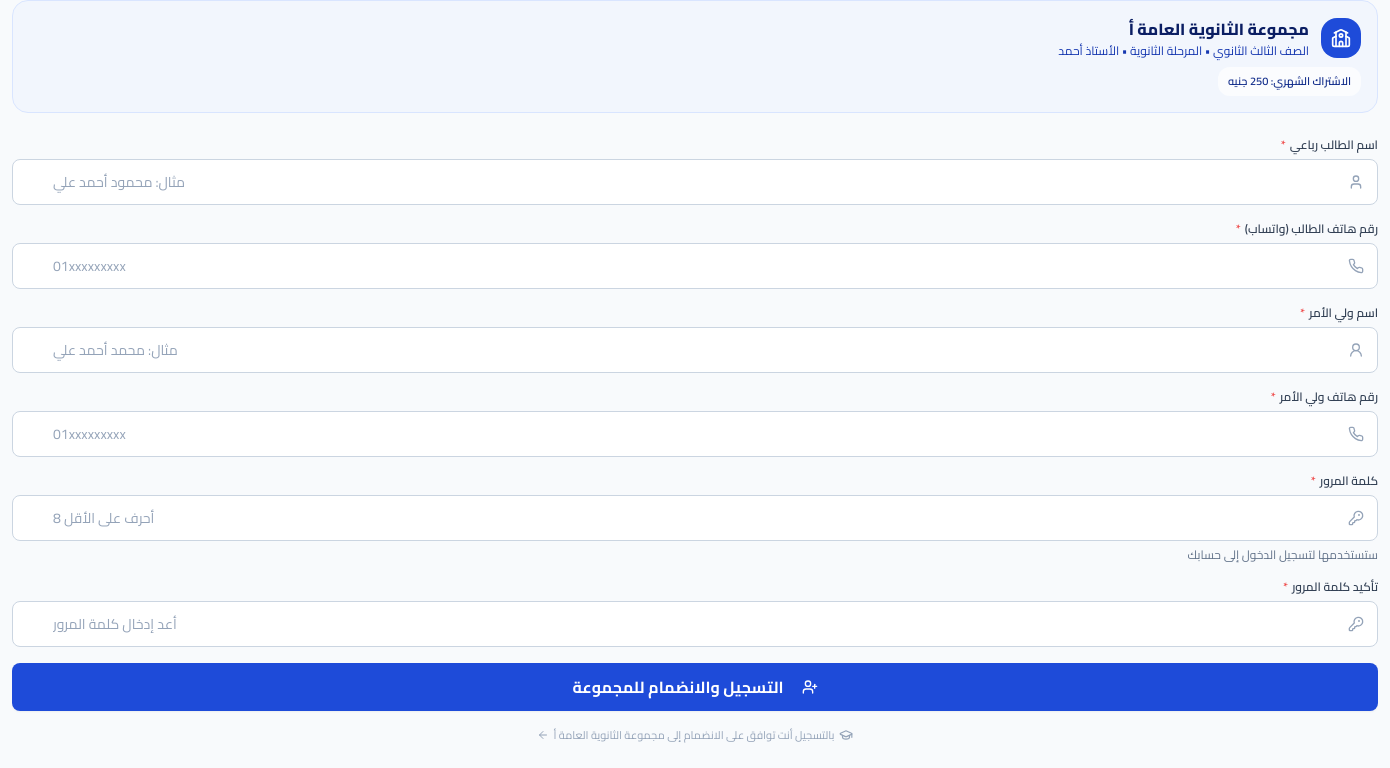
Test: GroupRegistrationForm › shows validation errors for all required student and parent fields when submitted empty
Click the button "التسجيل والانضمام للمجموعة" at {"x": 695, "y": 686}, box x1=12 y1=662 x2=1378 y2=710
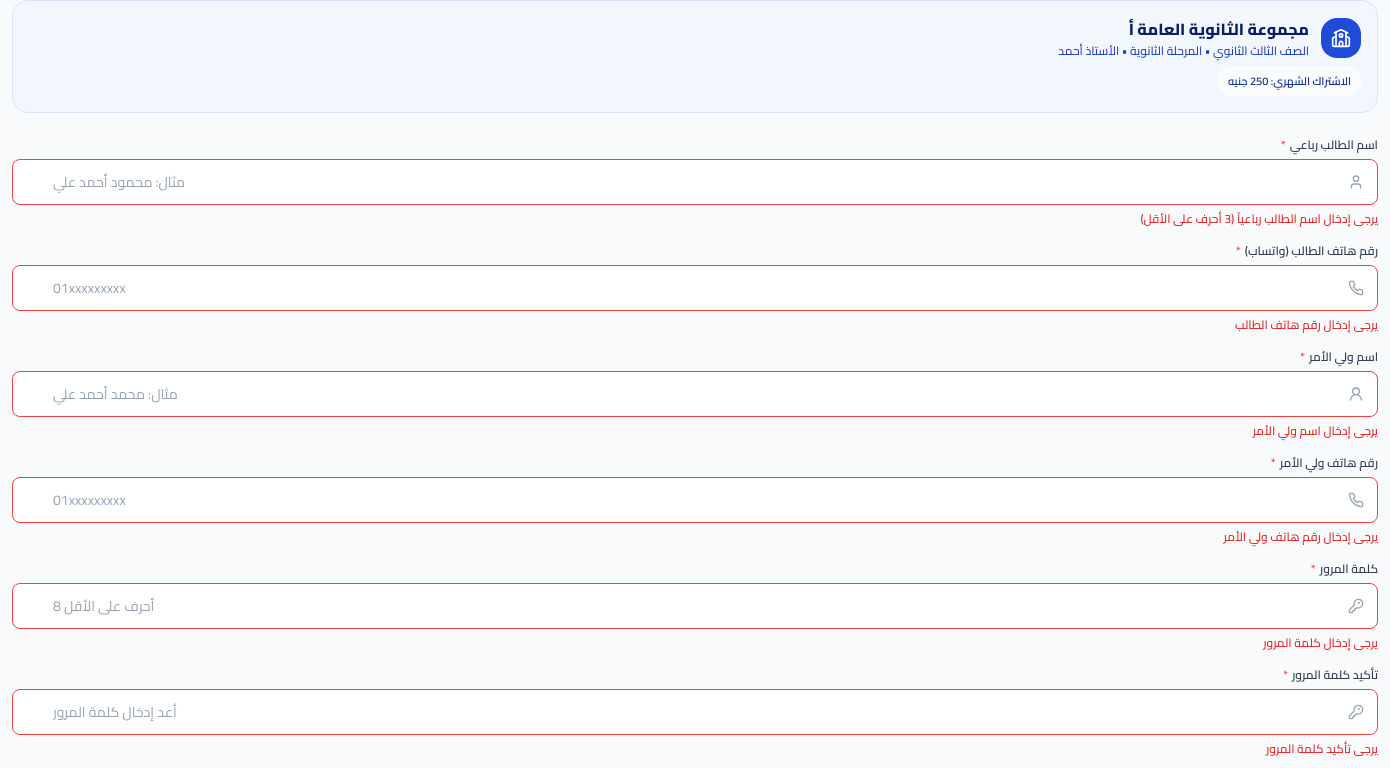
Now the text "يرجى إدخال اسم الطالب رباعياً (3 أحرف على الأقل)" is shown, box x1=1140 y1=206 x2=1378 y2=230
Now the text "يرجى إدخال رقم هاتف الطالب" is shown, box x1=1235 y1=312 x2=1378 y2=336
Now the text "يرجى إدخال اسم ولي الأمر" is shown, box x1=1253 y1=418 x2=1378 y2=442
